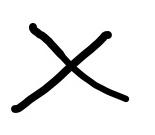mult: (11, 23, 129, 113)
